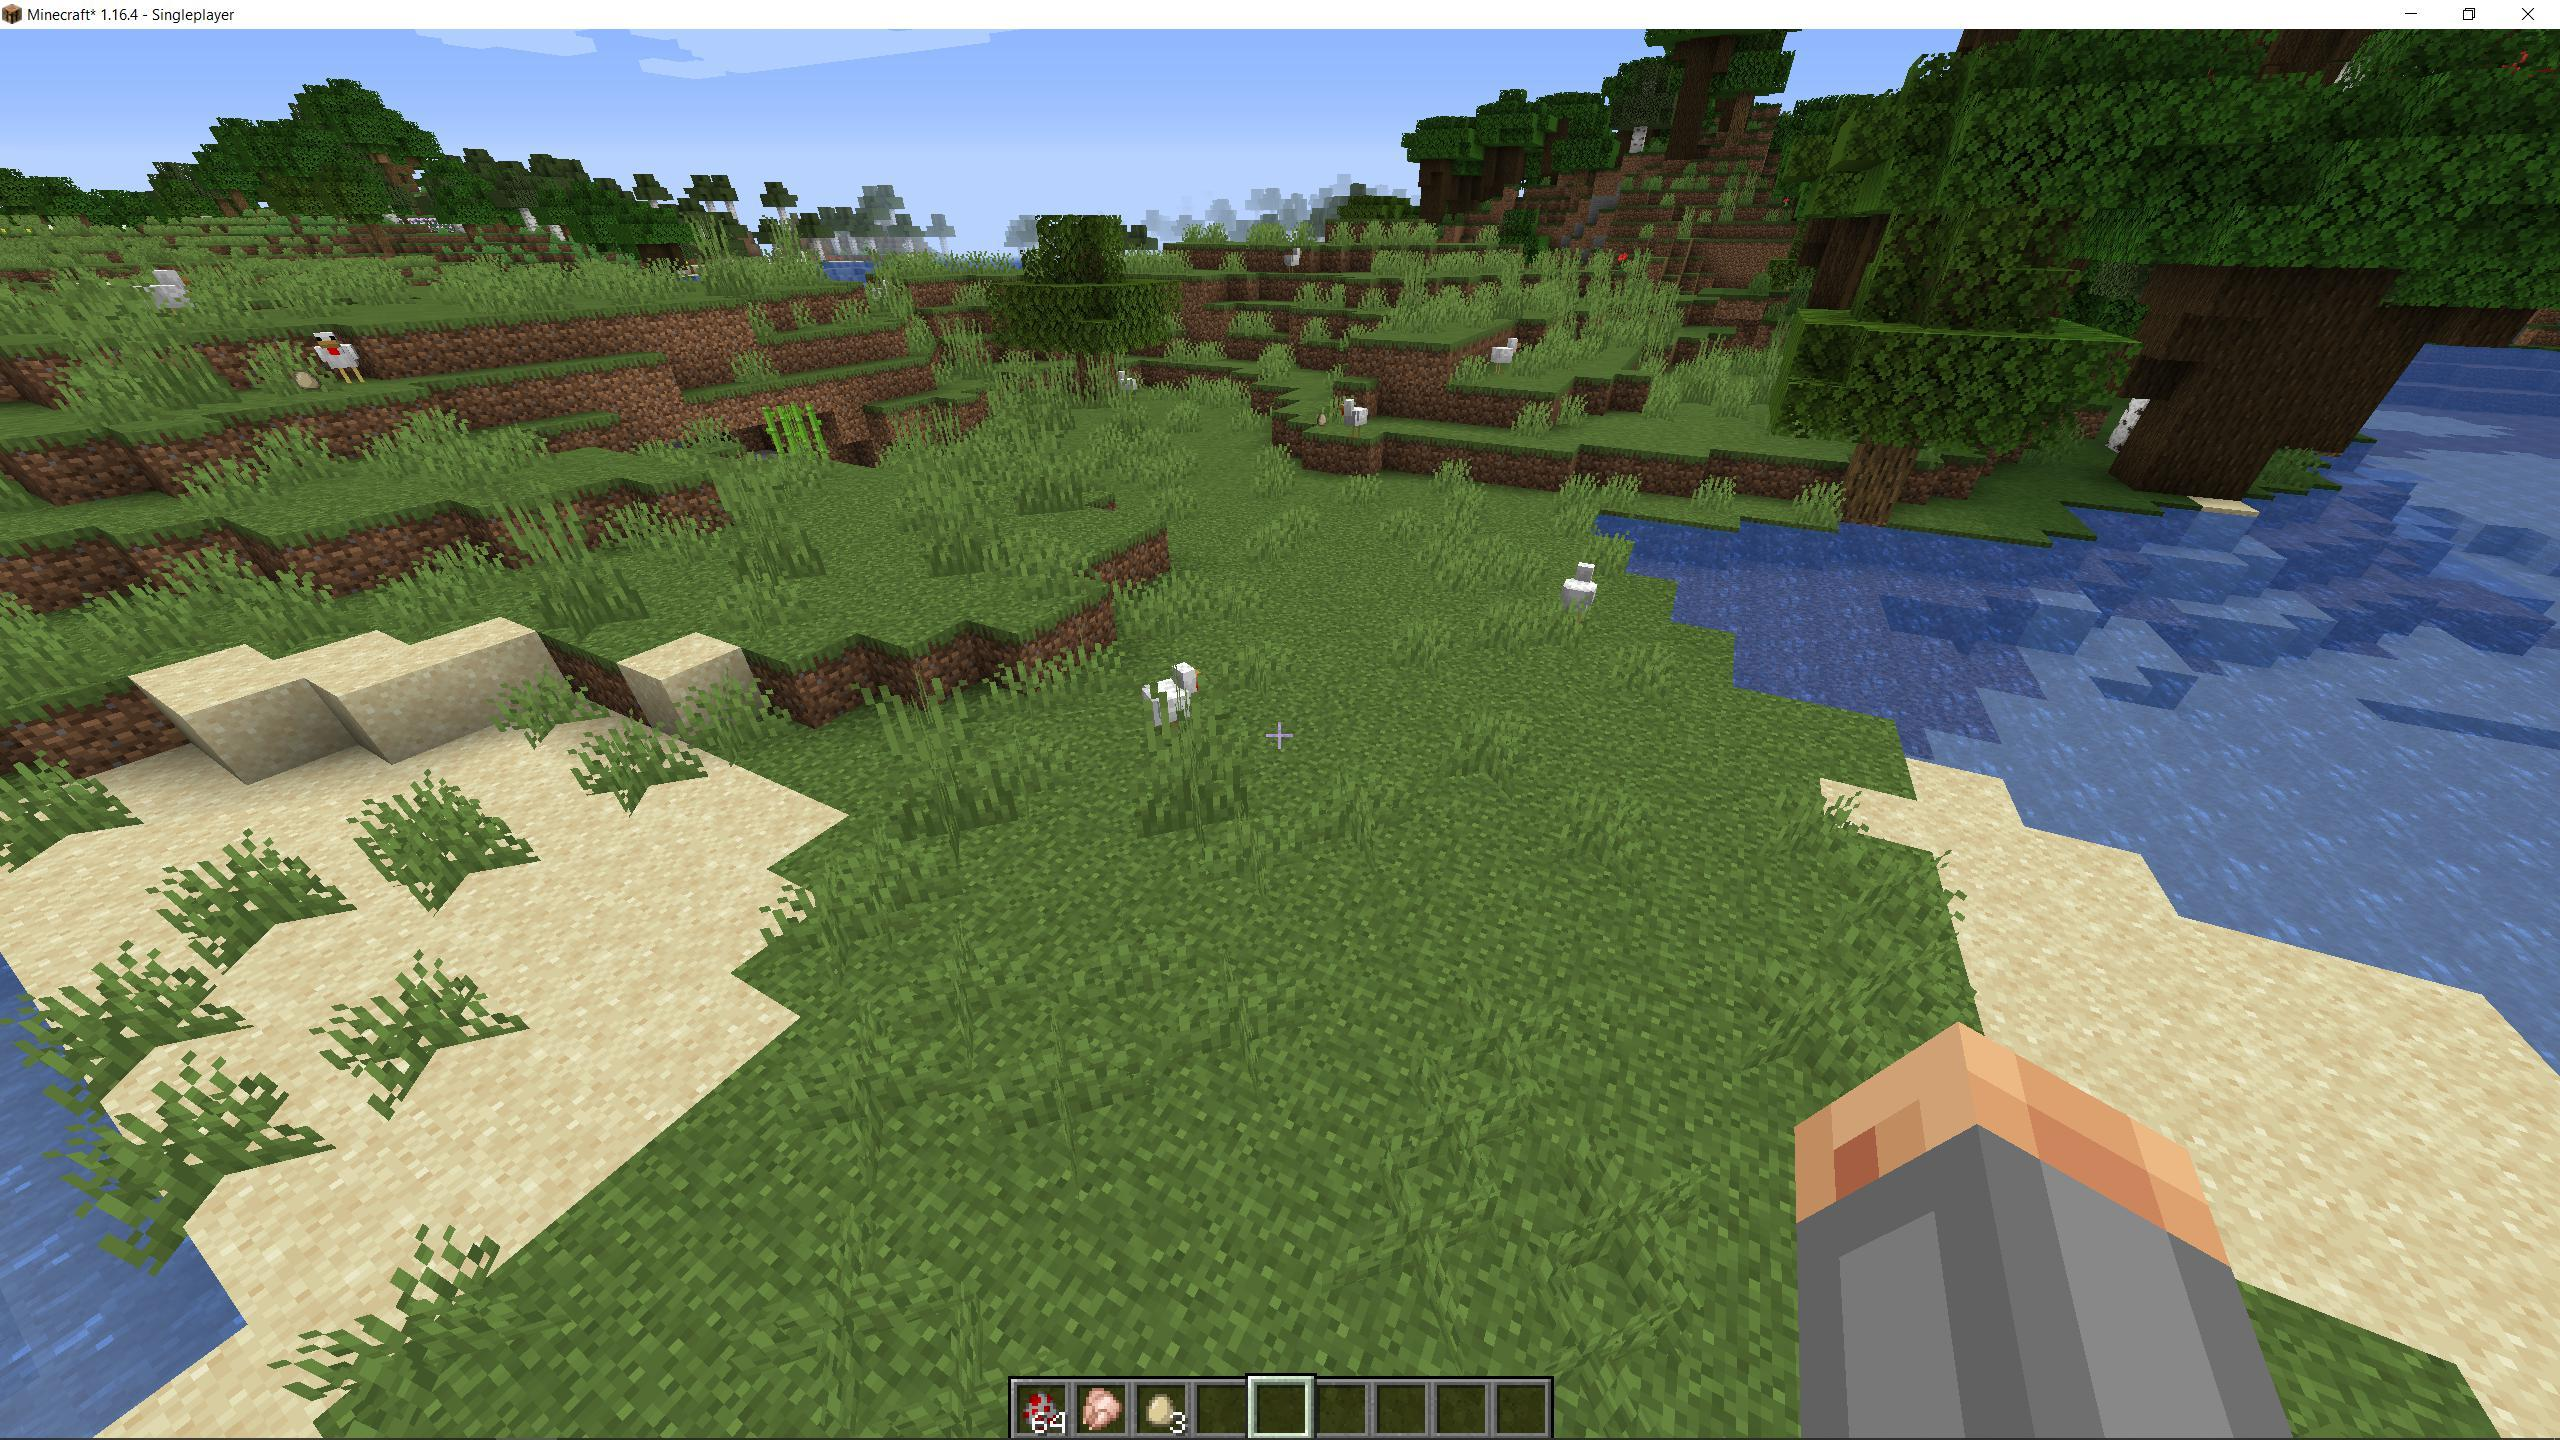chicken: (299, 318, 382, 403), (1136, 656, 1203, 735)
